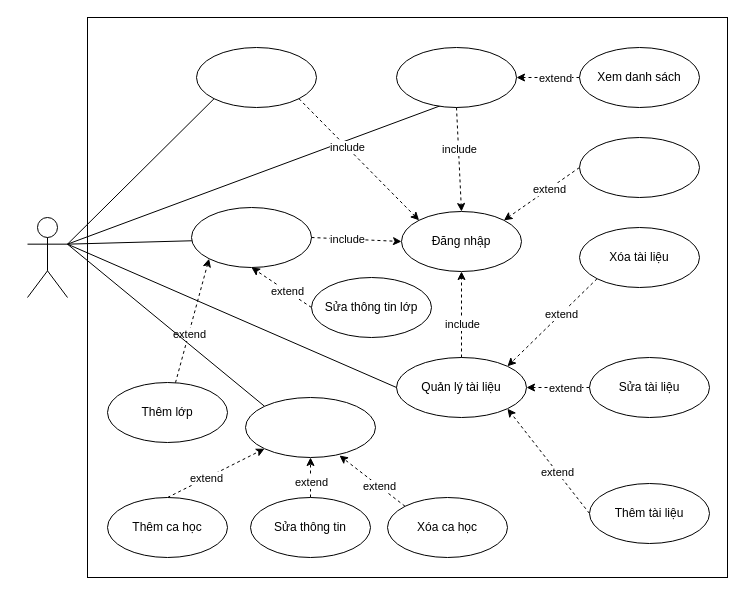
The diagram is 745 pixels wide and 595 high, and some of its shapes have lost their labels. The centre of each missing label's shape, as x and y in pixels:
"Chỉnh sửa thông tin" belongs at pixel 256 77.
"Giảng viên" belongs at pixel 47 257.
"Quản lý ca học" belongs at pixel 310 427.
"Quản lý khóa học" belongs at pixel 456 77.
"Quản lý lớp học" belongs at pixel 251 237.
"Đăng xuất" belongs at pixel 639 167.
